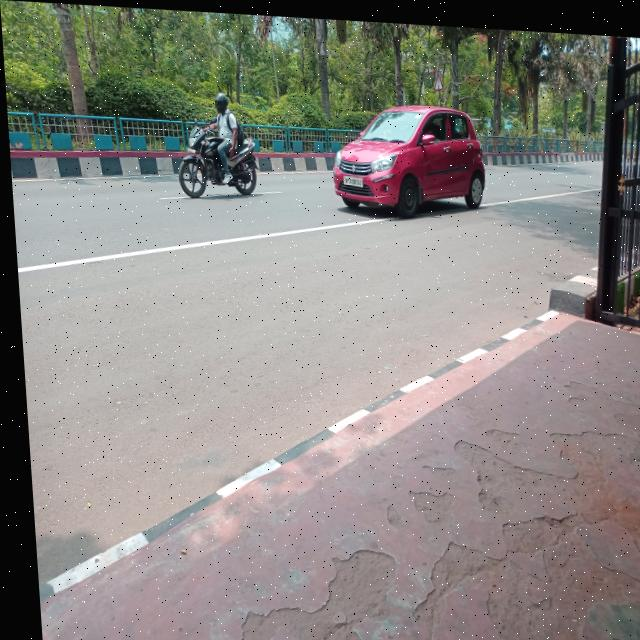bike: (164, 120, 281, 211)
car: (308, 91, 497, 222)
